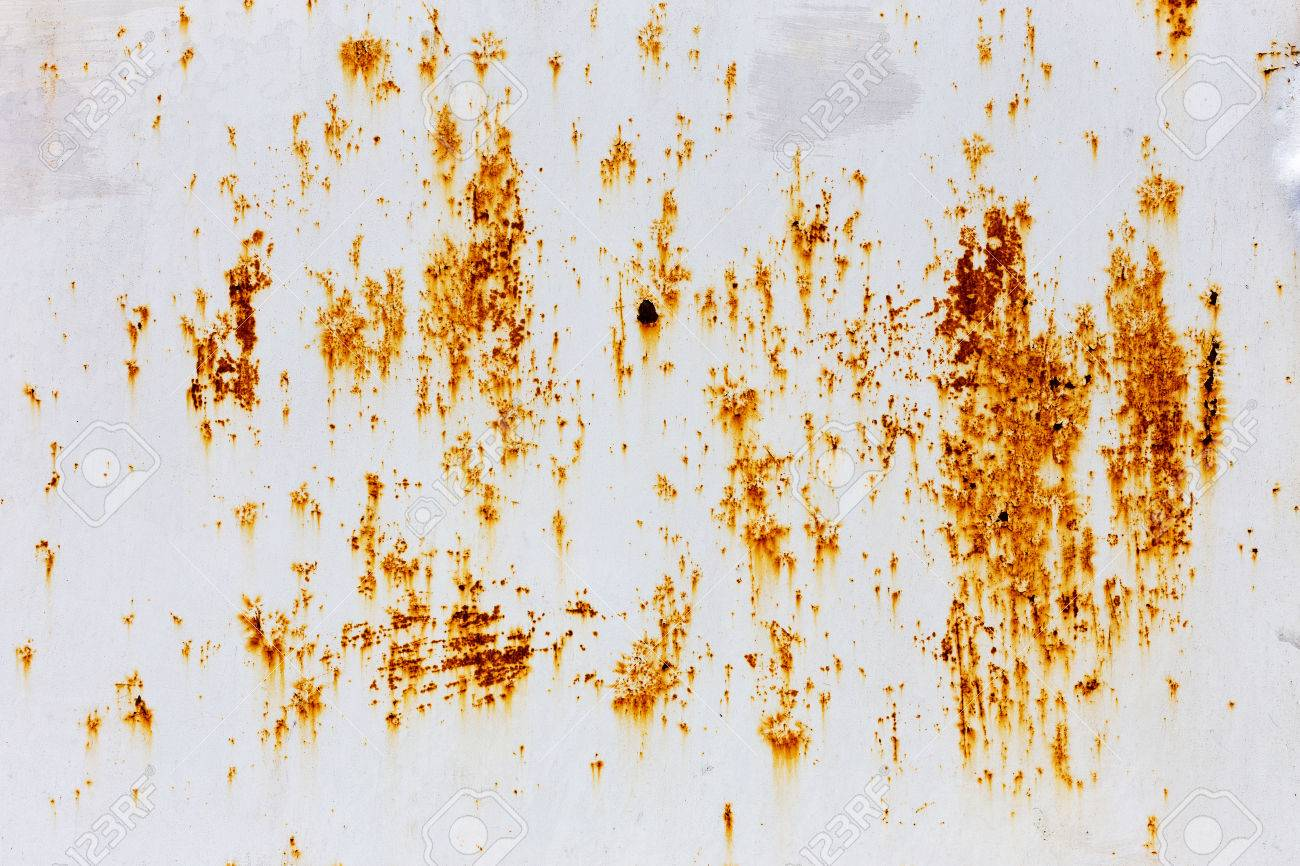rust: (1, 4, 1296, 866)
